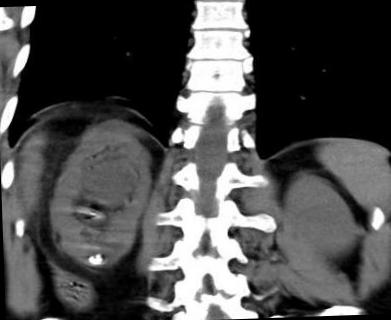Tas_Var: (86, 255, 104, 265), (95, 253, 101, 258)
